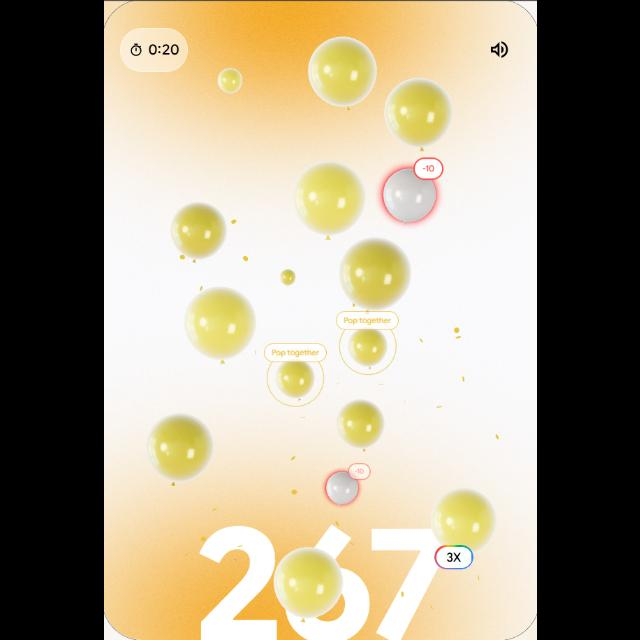hazard: (378, 156, 442, 232), (320, 460, 370, 514)
safe: (334, 240, 418, 318), (181, 284, 259, 368), (269, 547, 349, 623), (305, 36, 381, 112), (382, 74, 458, 150), (142, 411, 215, 489), (294, 166, 366, 237), (433, 489, 497, 559), (170, 205, 230, 262), (338, 400, 387, 452), (213, 67, 243, 95), (278, 267, 298, 287)
safe-pair: (260, 339, 328, 411), (335, 309, 401, 377)
